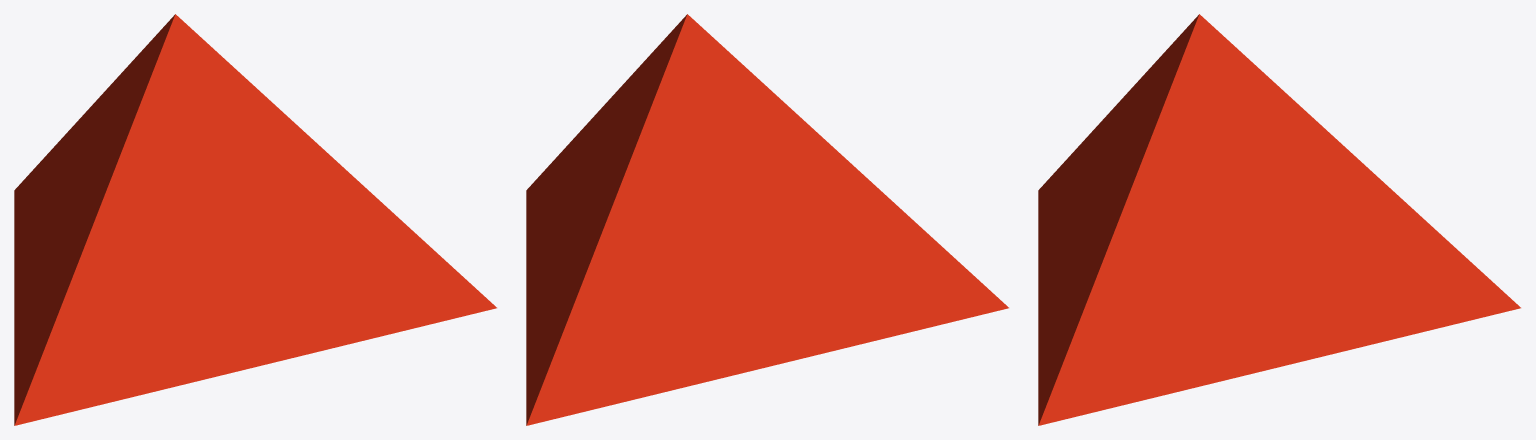
The model's file is TriangleEvil2.fbx.
3 renders of one model, left to right at view 1: azimuth 30°, elevation 25°; view 2: azimuth 150°, elevation 25°; view 3: azimuth 270°, elevation 25°, orthographic.
Visible parts, largest first — view 1: Cone; view 2: Cone; view 3: Cone.
Boxes of the visible parts, x1,y1,x2,y2 form: Cone: (14,14,496,425); Cone: (526,14,1008,425); Cone: (1038,14,1520,425).
Bounding box in the file's own units: 173 × 101 × 150.
